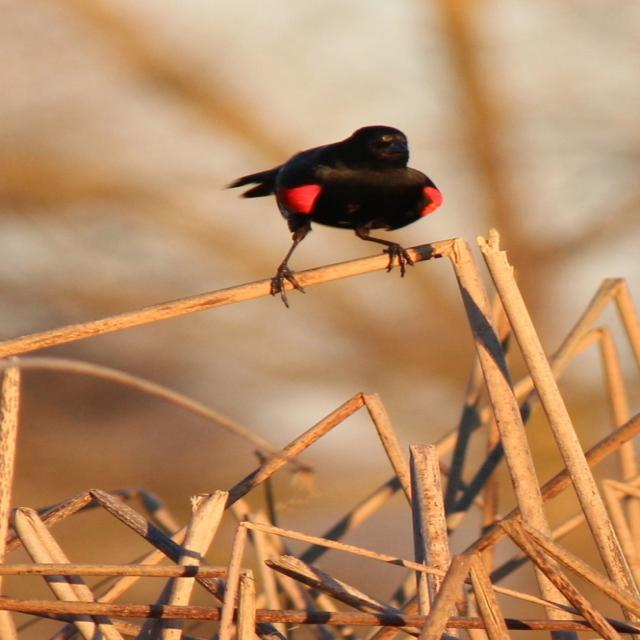bird: (220, 118, 437, 274)
